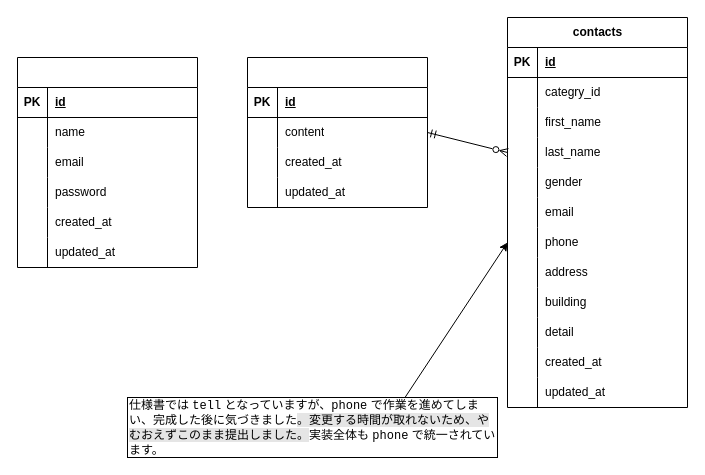
This 705x475 diagram has some shape labels left out. Each missing label, with the box of its shape:
categories: (246, 56, 428, 208)
users: (16, 56, 198, 268)
